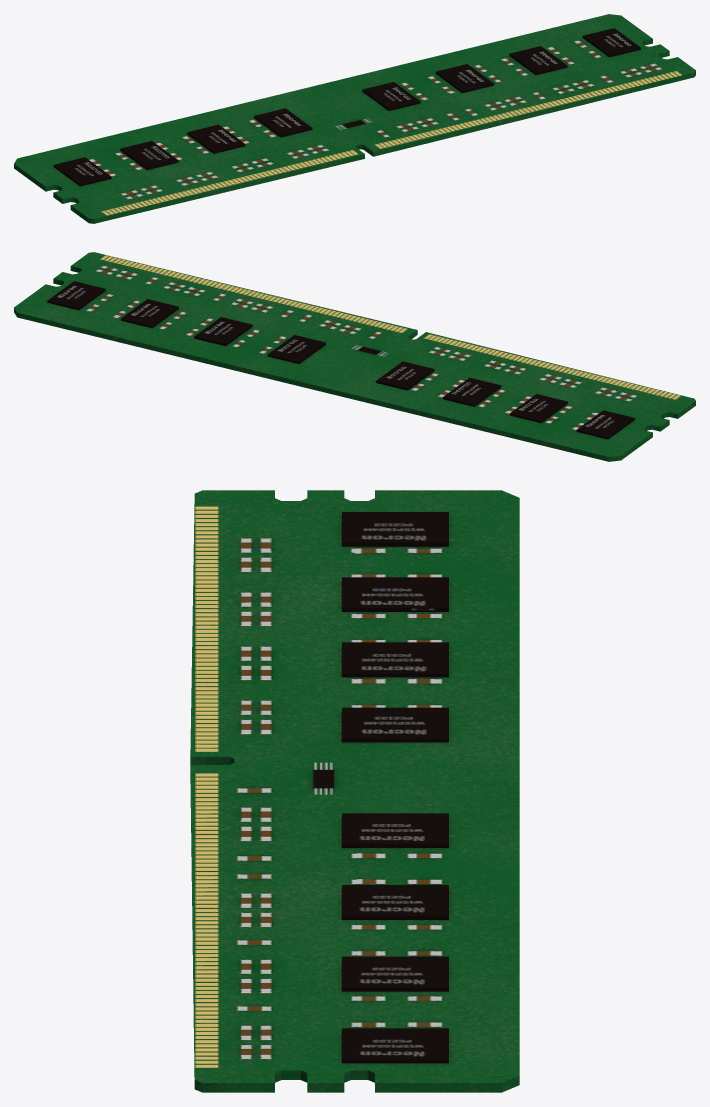
File: random_access_memory_ram_ddr4.glb
3 views of the same model, one above another, from view 1: azimuth 30°, elevation 25°; view 2: azimuth 150°, elevation 25°; view 3: azimuth 270°, elevation 25° (orthographic). The views are drawn at different scales.
Parts seen in each view (by area): view 1: RAM_LP; view 2: RAM_LP; view 3: RAM_LP.
Part boxes in pixels (box(x1,y1,x2,y2)): RAM_LP: box(14, 14, 695, 223); RAM_LP: box(14, 252, 695, 461); RAM_LP: box(190, 490, 519, 1092).
Size of the model in its own units: 0.1829 by 0.00258 by 0.0429.
1 material, 1 textured.
